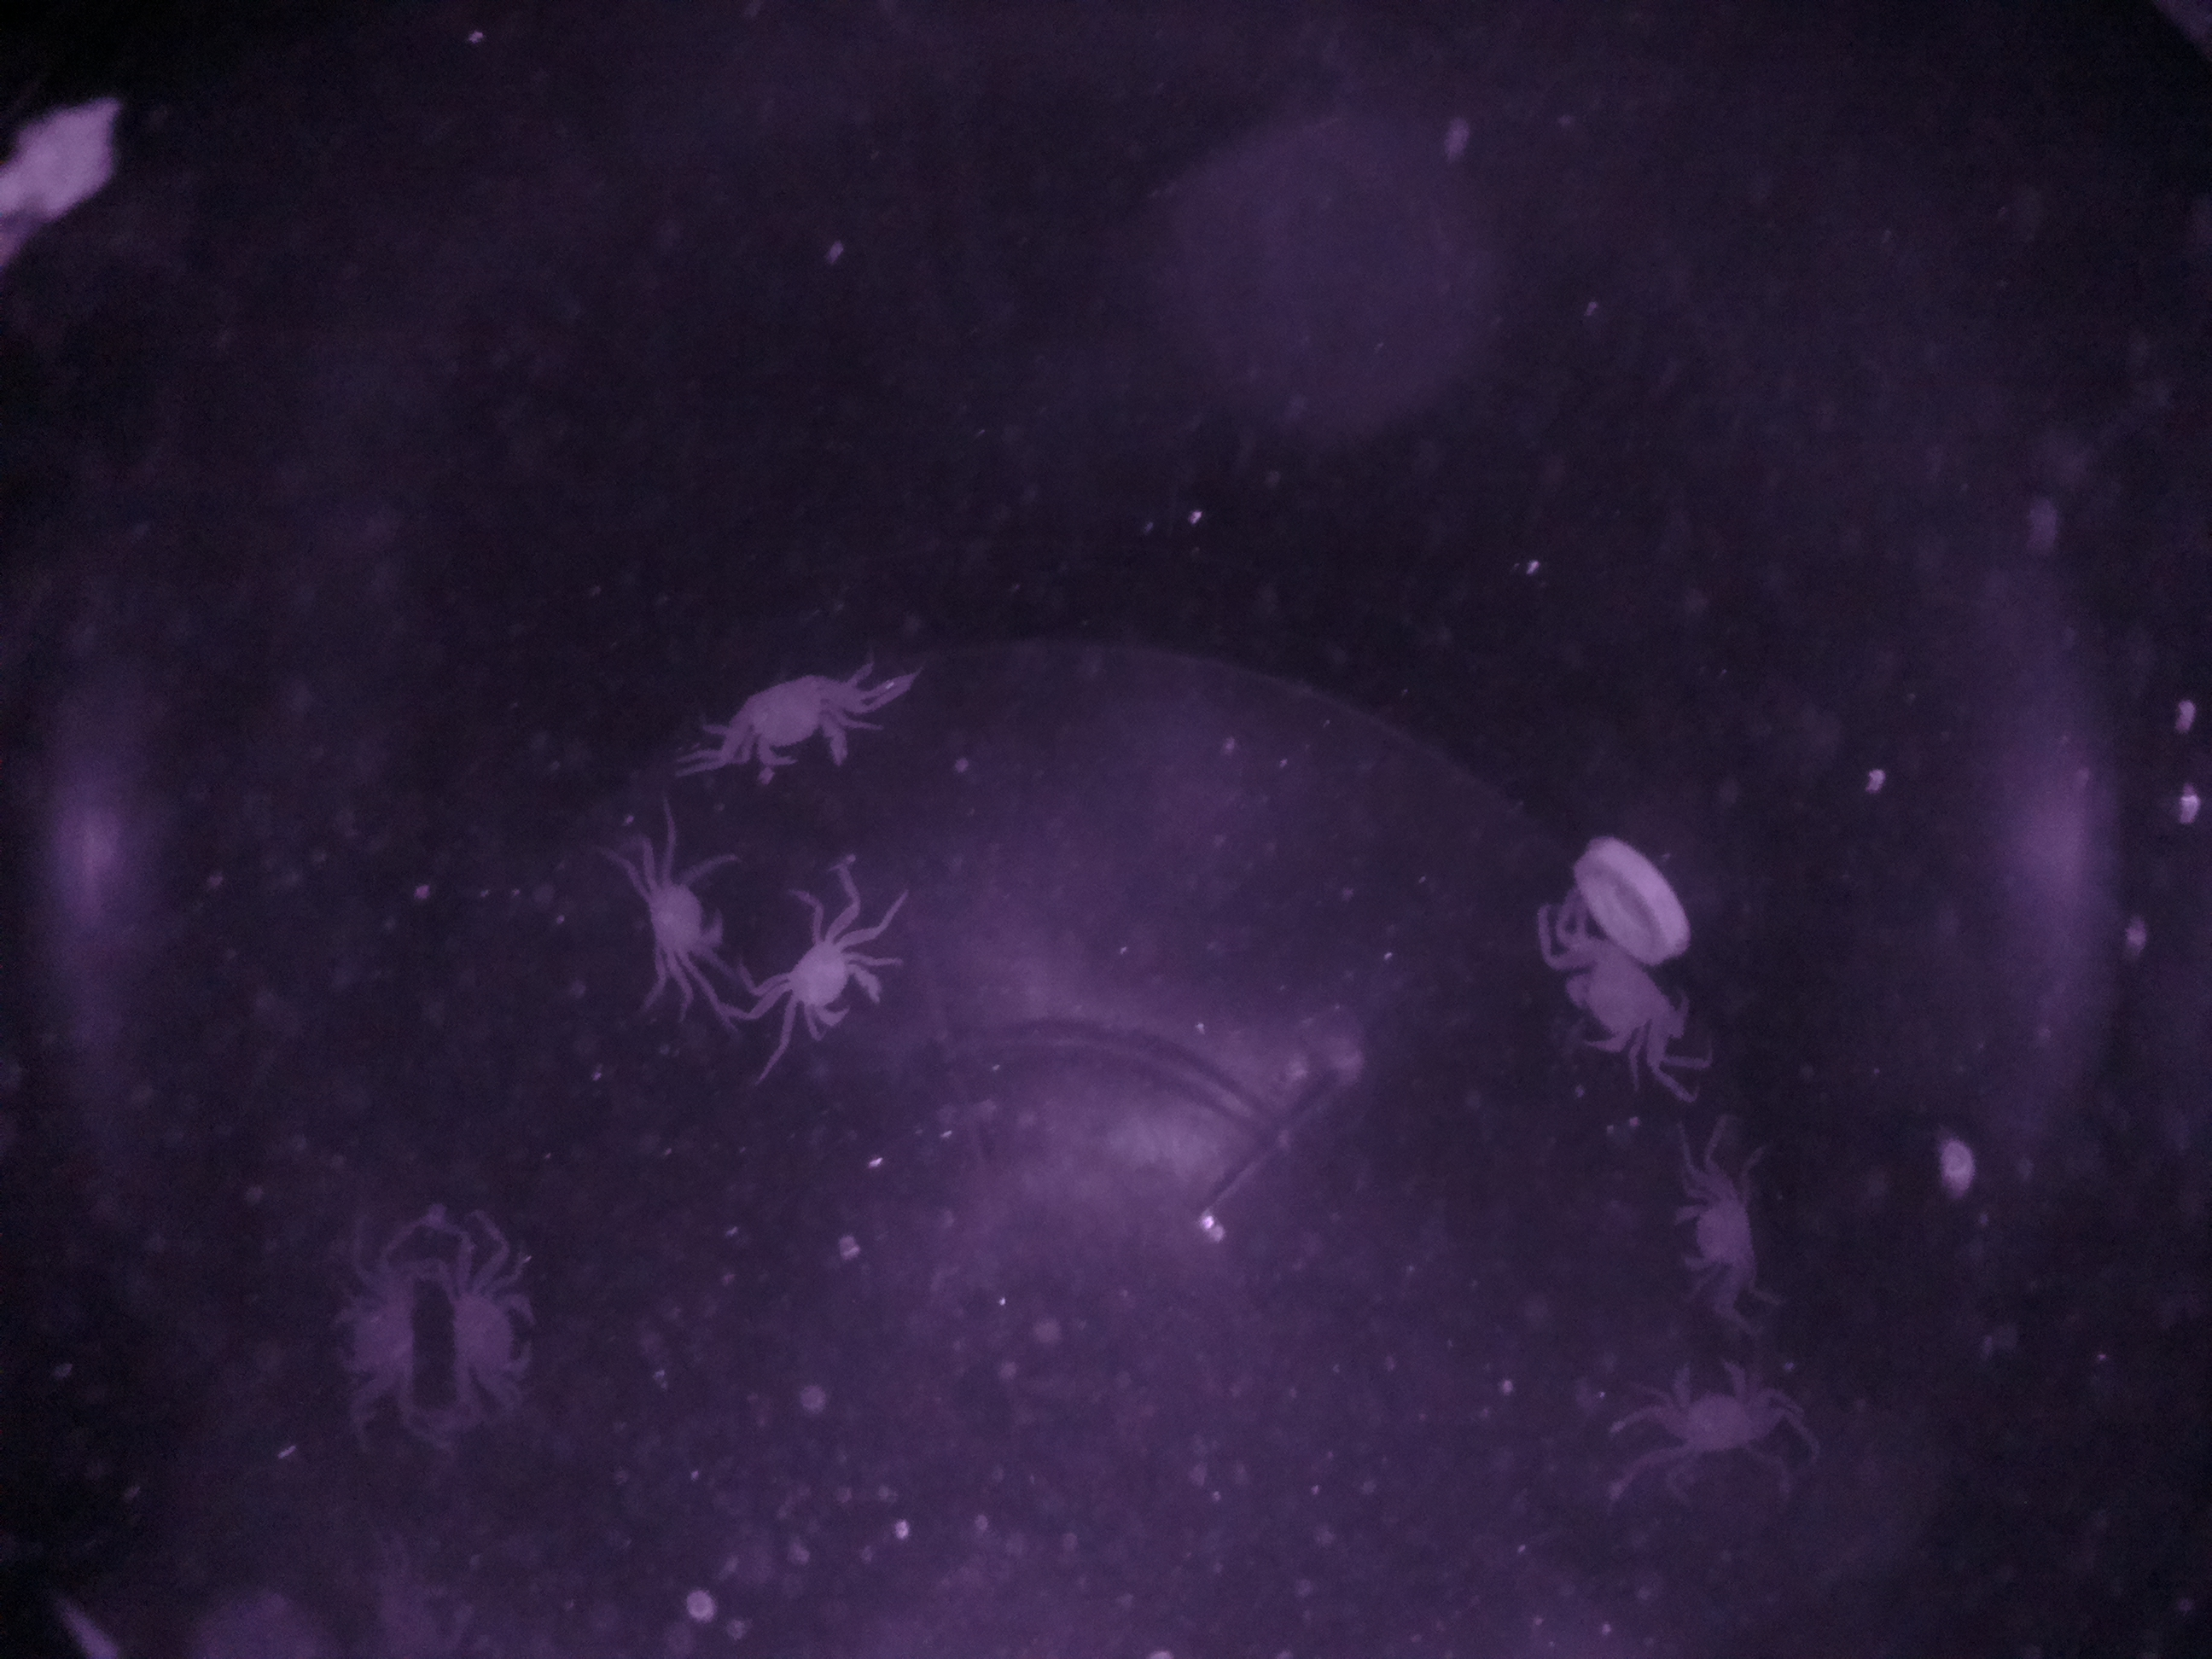Crab: (315, 1215, 448, 1460), (606, 821, 763, 1019), (1538, 910, 1717, 1080), (714, 636, 876, 795), (1622, 1337, 1794, 1478), (1648, 1152, 1801, 1310), (439, 1232, 554, 1427), (756, 897, 897, 1056)
